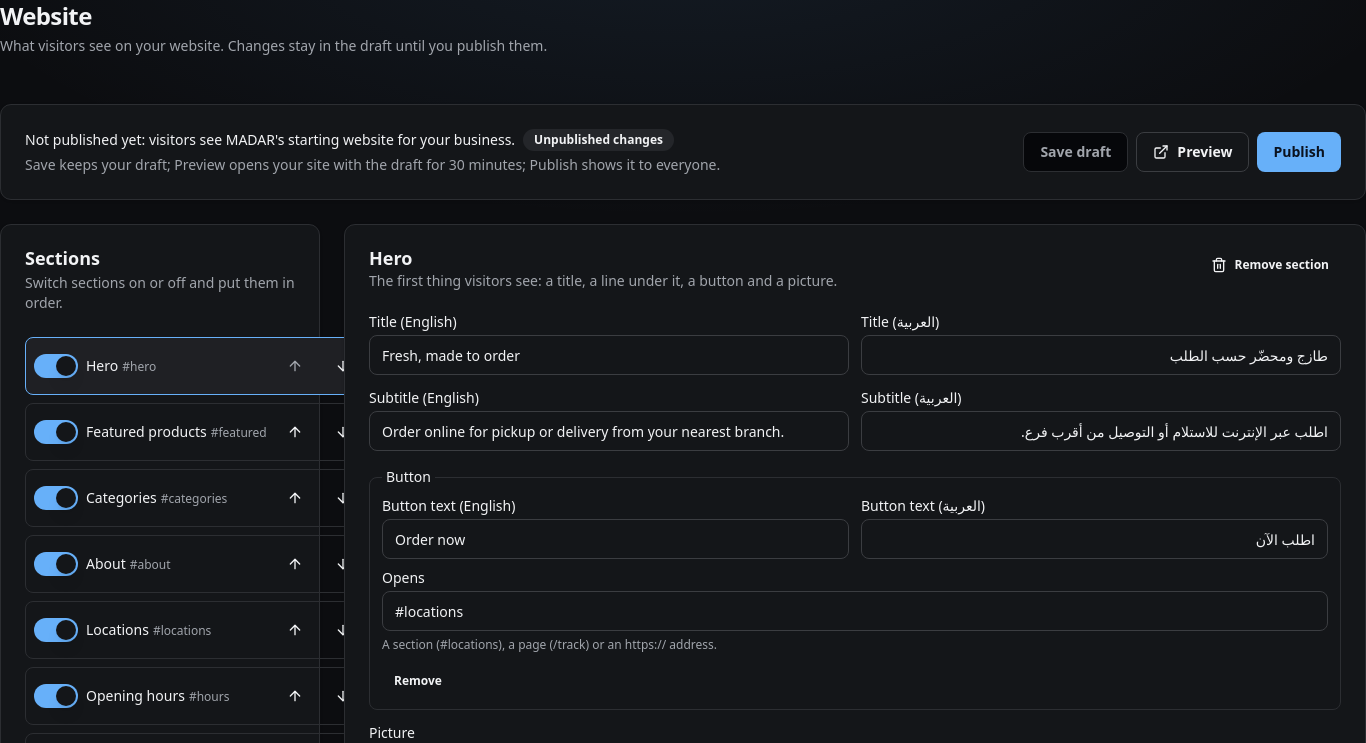
Scenario: website editor (ADR 0023) › switches, reorders and edits sections, then saves and publishes the draft
Click the switch named "Show About" at (56,564), box [34,552,78,576]
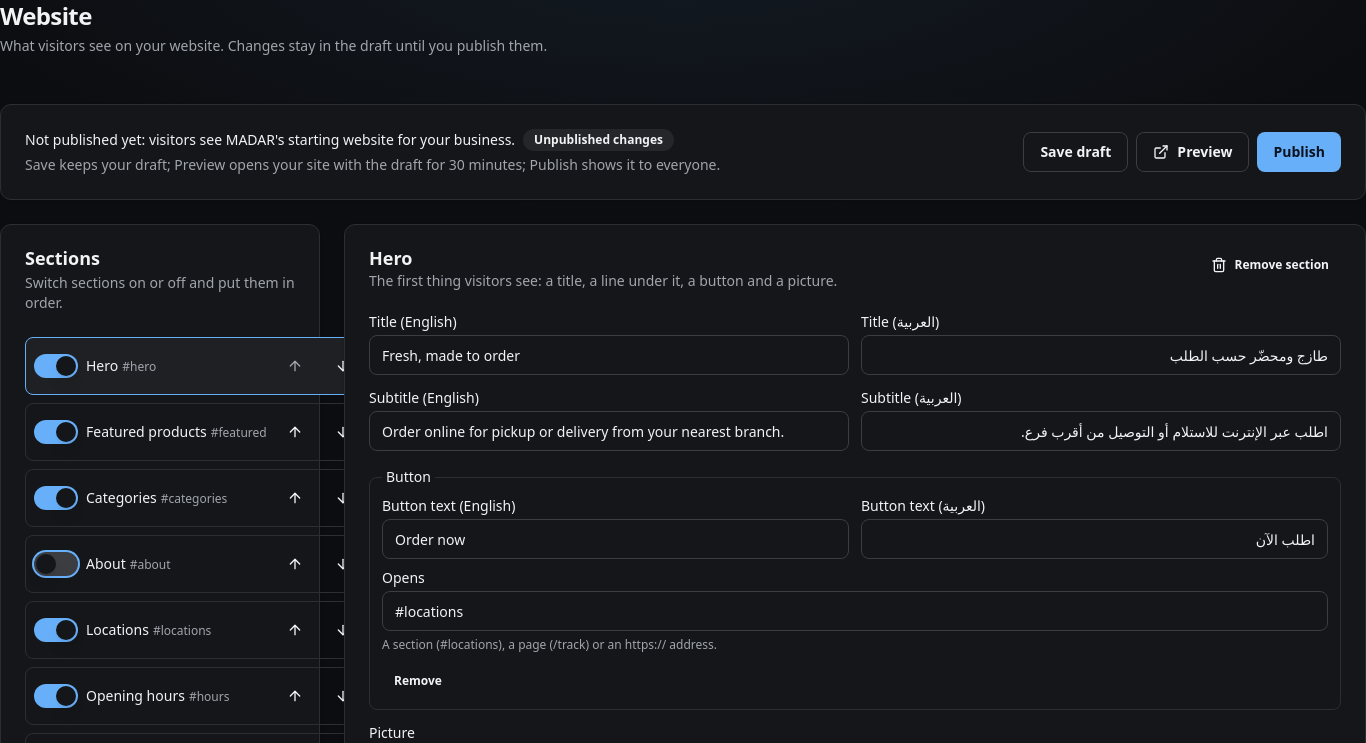
Click the button named "Move Featured products up" at (295,432), box [275,412,315,452]
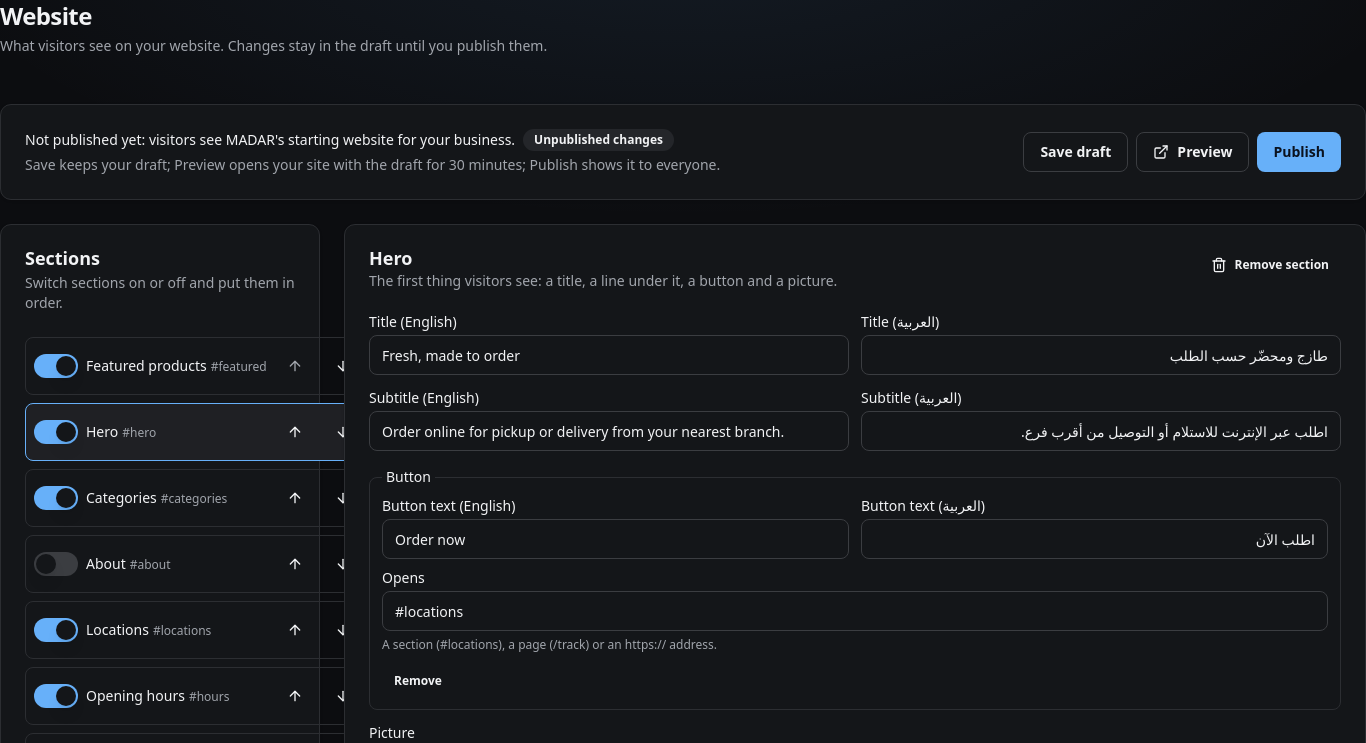
Replace the text in the field labelled "Title (العربية)" with "أهلًا" at (1101,355), box [861,335,1341,375]
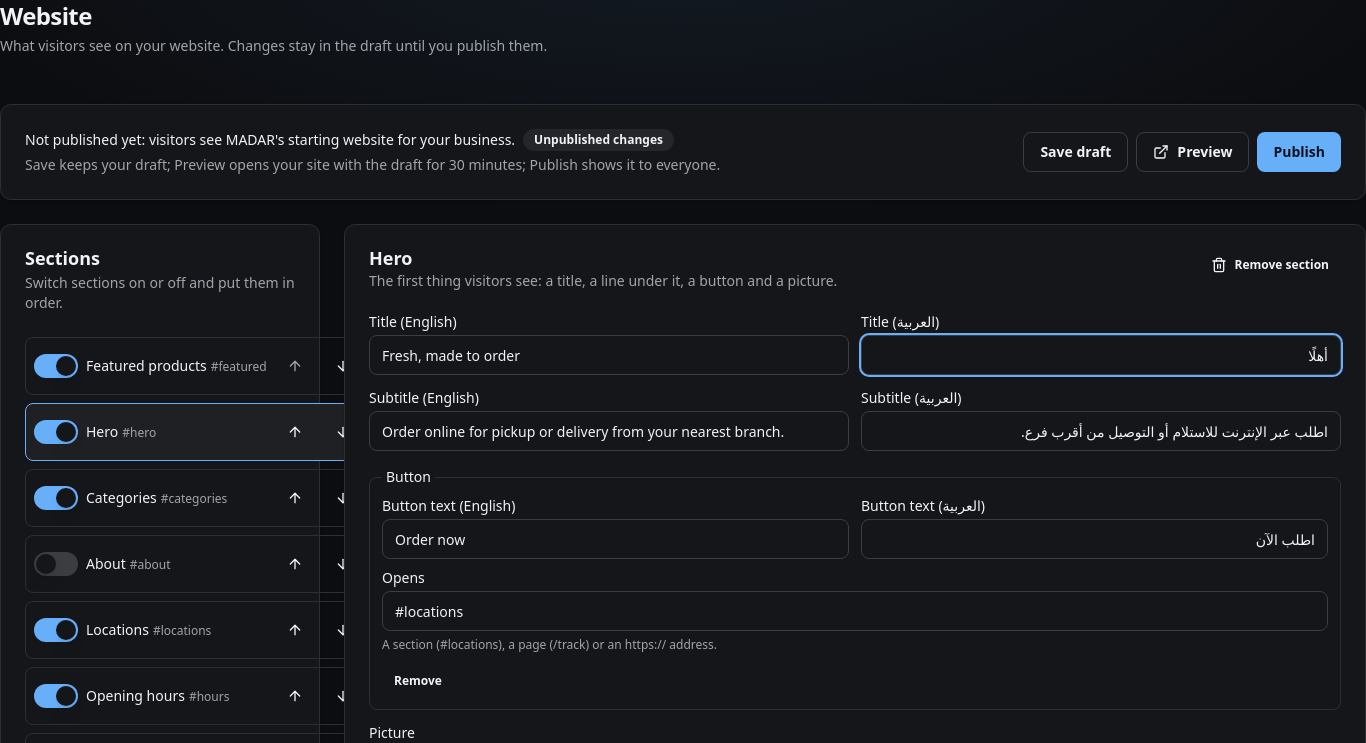
Click the button "Save draft" at (1076,152), box [1023,132,1128,172]
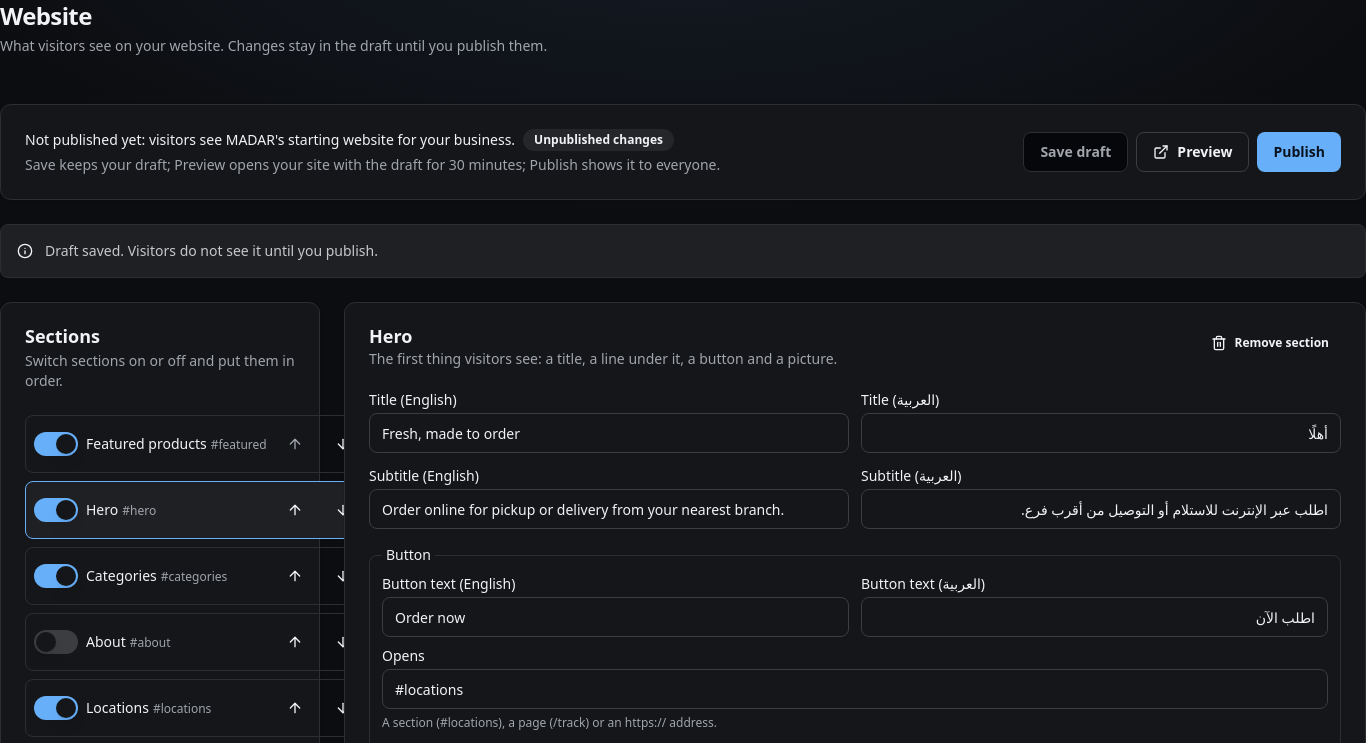
Now the text "Draft saved. Visitors do not see it until you publish." is shown, box [45,241,378,260]
Click the button "Publish" at (1299,152), box [1257,132,1341,172]
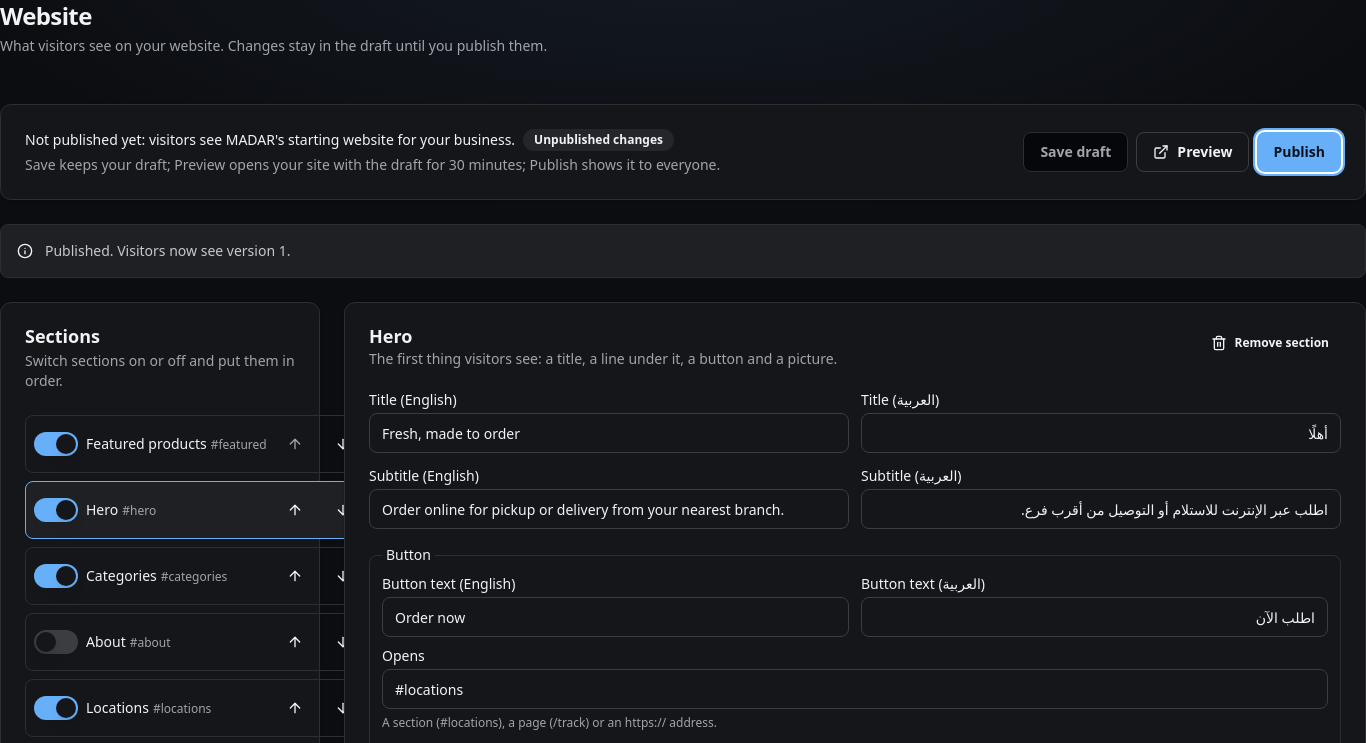
Now the text "Published. Visitors now see version 1." is shown, box [45,241,290,260]
